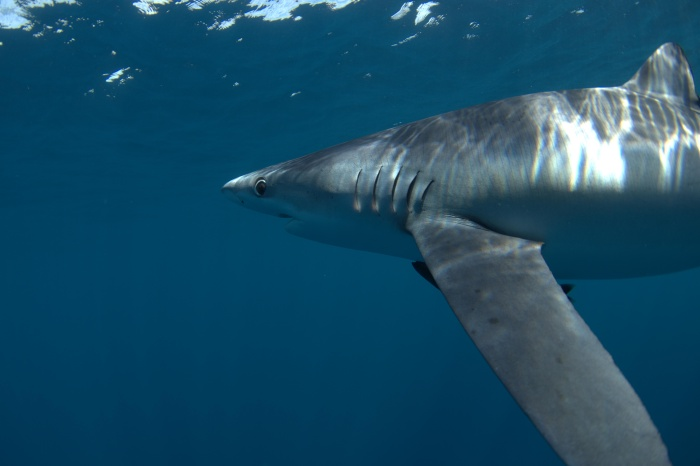Azul: (199, 27, 700, 457)
